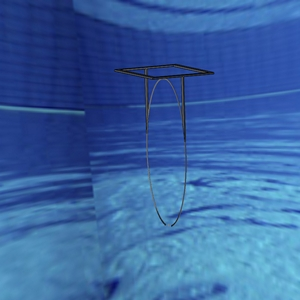circle: (111, 62, 216, 230)
